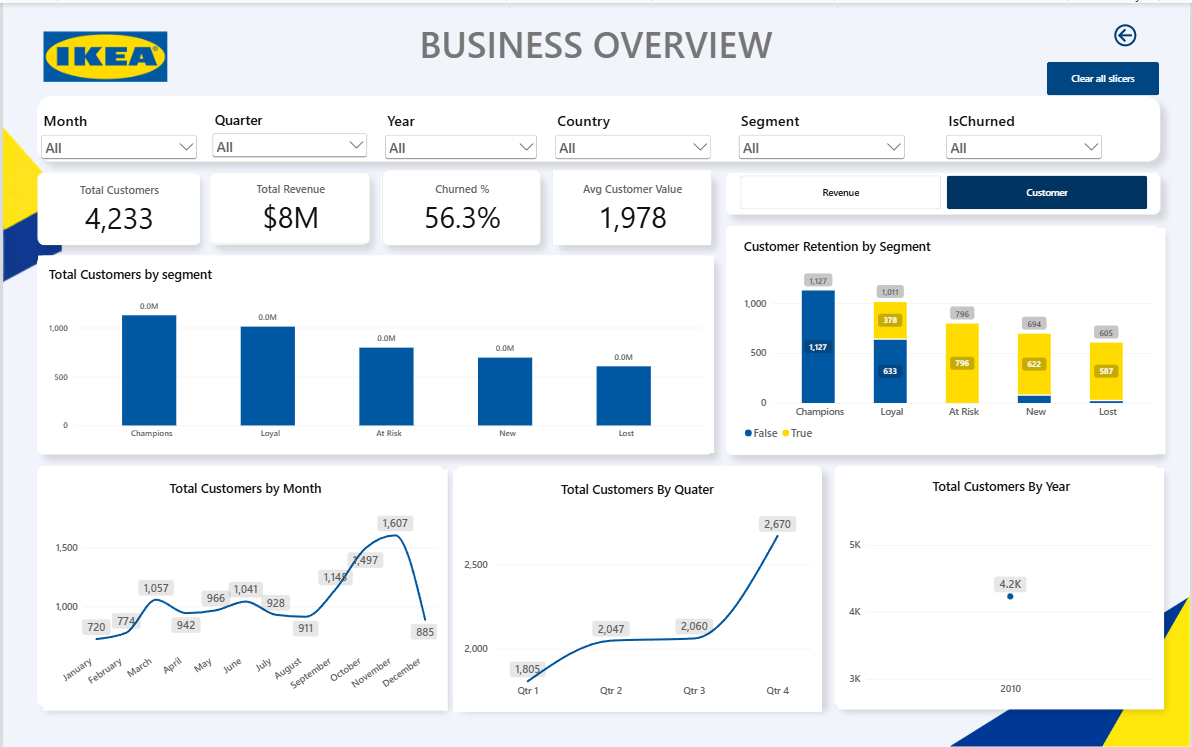

Layout of this report page (visuals, bound fields, positions):
{"tool":"powerbi","page":{"name":"Overview","canvas":[1750,1100],"ordinal":0},"visuals":[{"type":"cardVisual","fields":{"Data":["Sheet1.Total Customers"]},"box":[51.6,250.7,239.6,106.9],"z":0},{"type":"columnChart","title":"Total Customers by segment ","fields":{"Category":["Sheet1.Segment"],"Y":["Sheet1.Total Customers"]},"box":[51.6,372,997.2,291.2],"z":0,"group":"g1"},{"type":"cardVisual","fields":{"Data":["Sheet1.Total Revenue"]},"box":[304.1,248.8,237.8,106.9],"z":1000},{"type":"lineChart","title":"Total Customers By Year","fields":{"Category":["Sheet1.InvoiceMonth.Variation.Date Hierarchy.Year"],"Y":["Sheet1.Total Customers"]},"box":[1231.3,685.7,481.1,355.7],"z":1000,"group":"g1"},{"type":"cardVisual","fields":{"Data":["Sheet1.Churned %"]},"box":[558.5,245.1,234.1,112.4],"z":2000},{"type":"lineChart","title":"Total Customers By Quater","fields":{"Category":["Sheet1.InvoiceMonth.Variation.Date Hierarchy.Quarter"],"Y":["Sheet1.Total Customers"]},"box":[663.6,689.4,543.7,355.7],"z":2000,"group":"g1"},{"type":"cardVisual","fields":{"Data":["Sheet1.Avg Customer Value"]},"box":[809.2,245.1,235.9,112.4],"z":3000},{"type":"lineChart","title":"Total Customers by Month ","fields":{"Category":["Sheet1.InvoiceMonth.Variation.Date Hierarchy.Month"],"Y":["Sheet1.Total Customers"]},"box":[59,687.5,597.2,355.7],"z":3000,"group":"g1"},{"type":"slicer","fields":{"Values":["Sheet1.InvoiceMonth.Variation.Date Hierarchy.Month"]},"box":[51.6,158.5,239.6,92.2],"z":4000},{"type":"columnChart","title":"Customer Retention by Segment","fields":{"Category":["Sheet1.Segment"],"Series":["Sheet1.IsChurned"],"Y":["Sheet1.Total Customers"]},"box":[1076.5,331.8,637.7,333.6],"z":4000,"group":"g1"},{"type":"slicer","fields":{"Values":["Sheet1.InvoiceMonth.Variation.Date Hierarchy.Quarter"]},"box":[304.1,158.5,237.8,86.6],"z":5000},{"type":"slicer","fields":{"Values":["Sheet1.Year"]},"box":[558.5,158.5,234.1,75.6],"z":6000},{"type":"slicer","fields":{"Values":["Sheet1.Country"]},"box":[809.2,158.5,239.6,75.6],"z":7000},{"type":"slicer","fields":{"Values":["Sheet1.Segment"]},"box":[1080.1,158.5,254.4,75.6],"z":8000},{"type":"slicer","fields":{"Values":["Sheet1.IsChurned"]},"box":[1386.1,158.5,239.6,75.6],"z":9000},{"type":"group","id":"g1","title":"Customer","box":[51.6,331.8,1662.5,713.3],"z":10000},{"type":"bookmarkNavigator","box":[1087.5,254.4,600,50],"z":12000},{"type":"image","box":[25.8,0,250.7,158.5],"z":13000},{"type":"textbox","box":[555.2,24,639.6,86.6],"z":14000},{"type":"actionButton","box":[1605.4,16.6,99.5,62.7],"z":15000},{"type":"actionButton","box":[1539,86.6,165.9,49.8],"z":16000}]}

Visuals, with their boxes in screenshot pixels (x1, y1, x2, y2), scaled from the page's 1750x1100 canvas onto the 1192x747 screenshot:
cardVisual - Sheet1.Total Customers: 35/170/198/243
"Total Customers by segment " columnChart: 35/253/714/450
cardVisual - Sheet1.Total Revenue: 207/169/369/242
"Total Customers By Year" lineChart: 839/466/1166/707
cardVisual - Sheet1.Churned %: 380/166/540/243
"Total Customers By Quater" lineChart: 452/468/822/710
cardVisual - Sheet1.Avg Customer Value: 551/166/712/243
"Total Customers by Month " lineChart: 40/467/447/708
slicer - Sheet1.InvoiceMonth.Variation.Date Hierarchy.Month: 35/108/198/170
"Customer Retention by Segment" columnChart: 733/225/1168/452
slicer - Sheet1.InvoiceMonth.Variation.Date Hierarchy.Quarter: 207/108/369/166
slicer - Sheet1.Year: 380/108/540/159
slicer - Sheet1.Country: 551/108/714/159
slicer - Sheet1.Segment: 736/108/909/159
slicer - Sheet1.IsChurned: 944/108/1107/159
"Customer" group: 35/225/1168/710
bookmarkNavigator: 741/173/1149/207
image: 18/0/188/108
textbox: 378/16/814/75
actionButton: 1094/11/1161/54
actionButton: 1048/59/1161/93
